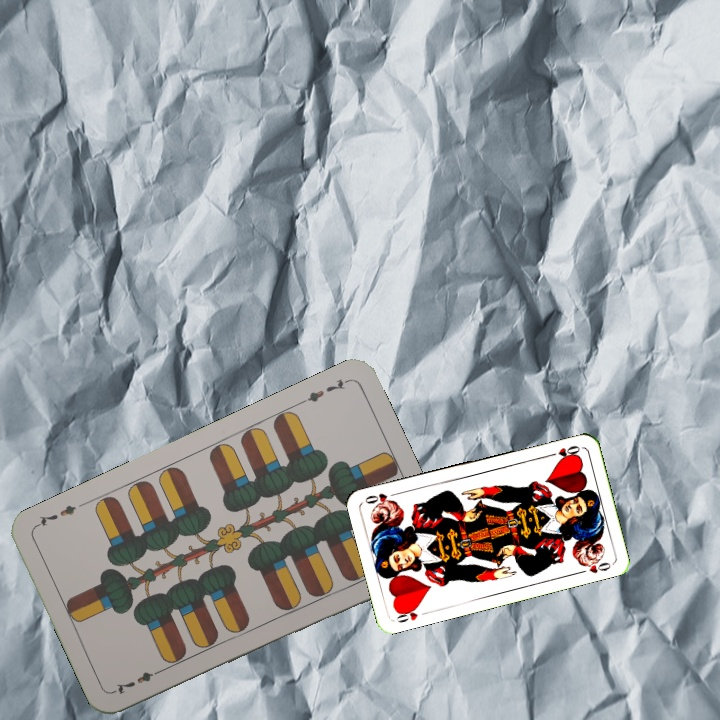E7: (110, 664, 166, 697), (296, 375, 351, 407)
HO: (392, 602, 431, 625), (543, 441, 582, 461)
